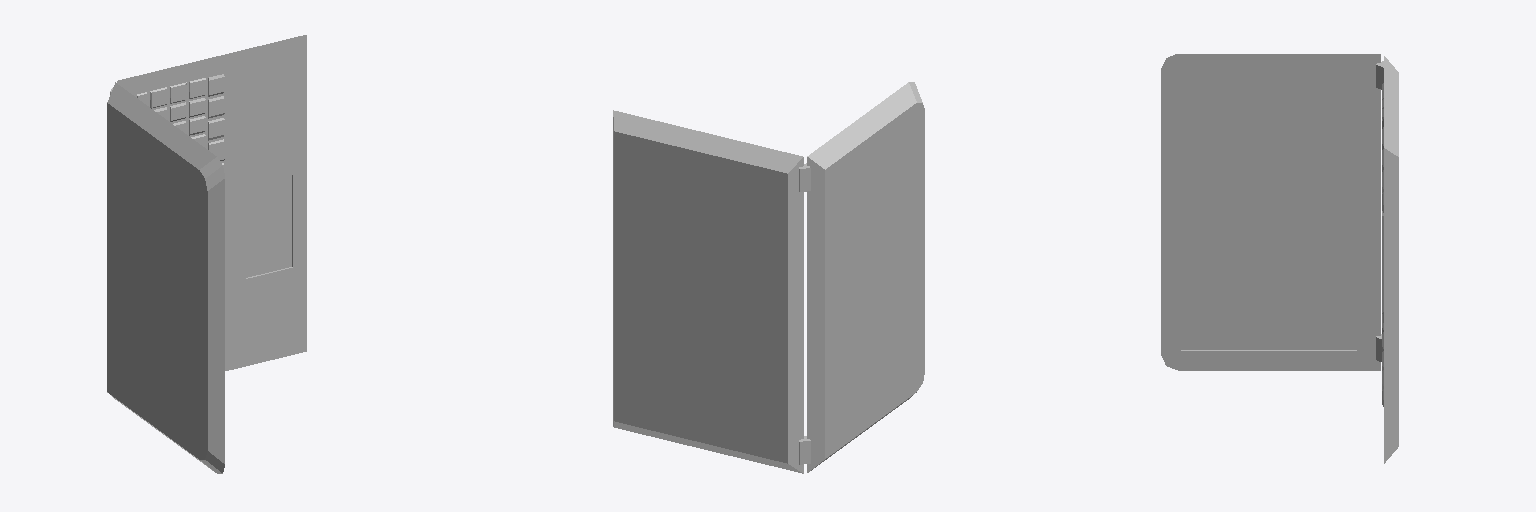
Rendered from laptop.obj.
3 renders of one model, left to right at view 1: azimuth 30°, elevation 25°; view 2: azimuth 150°, elevation 25°; view 3: azimuth 270°, elevation 25°, orthographic.
Parts seen in each view (by area): view 1: Google:pCube24; view 2: Google:pCube24; view 3: Google:pCube24.
Boxes of the visible parts, x1,y1,x2,y2 form: Google:pCube24: [107, 35, 306, 473]; Google:pCube24: [613, 82, 924, 473]; Google:pCube24: [1161, 54, 1398, 463].
Size of the model in its own units: 85.63 by 126 by 85.47.